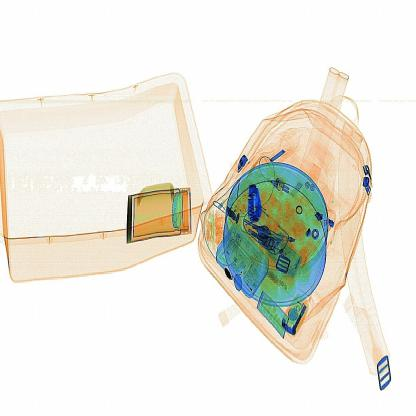scissors: (241, 171, 273, 228)
